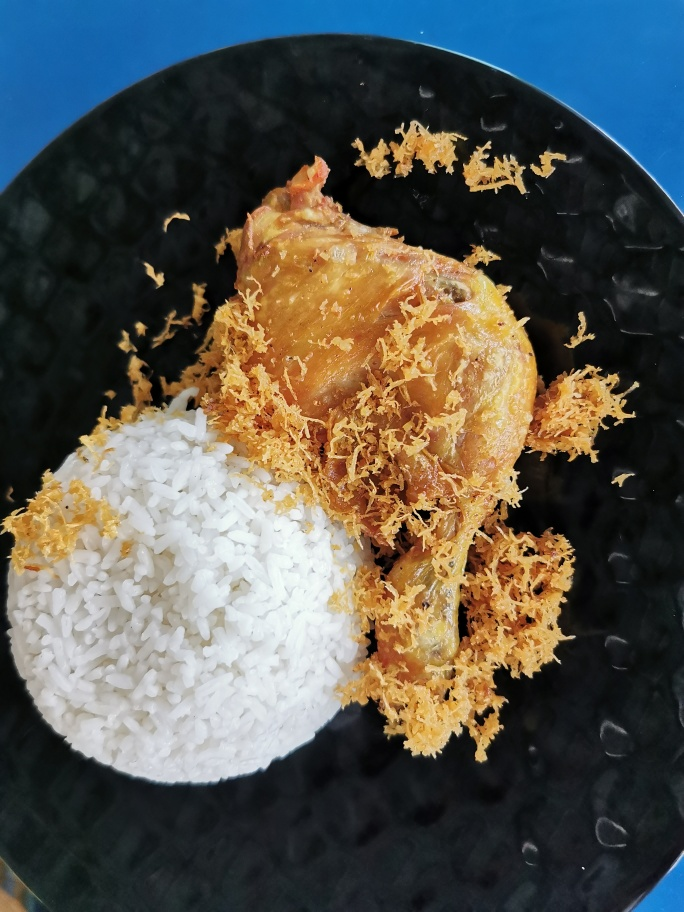ayam goreng: (204, 194, 546, 729)
nasi putih: (11, 395, 367, 799)
